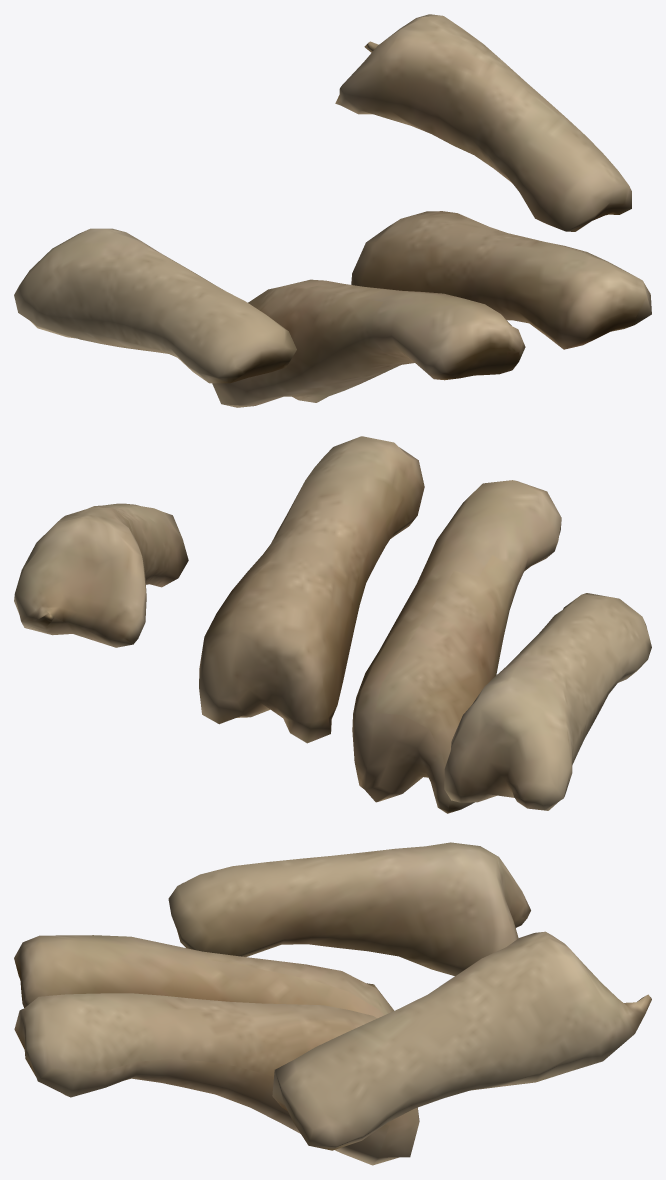
The model's file is Proximal_Phalanges.glb.
3 views of the same model, one above another, from view 1: azimuth 30°, elevation 25°; view 2: azimuth 150°, elevation 25°; view 3: azimuth 270°, elevation 25° (orthographic). The views are drawn at different scales.
Visible parts, largest first — view 1: polySurface32, polySurface35, polySurface34, polySurface33; view 2: polySurface33, polySurface34, polySurface35, polySurface32; view 3: polySurface32, polySurface35, polySurface33, polySurface34.
Part boxes in pixels (x1,y1,x2,y2): polySurface32: (335,14,631,231); polySurface35: (14,228,296,383); polySurface34: (212,279,525,407); polySurface33: (351,211,651,349); polySurface33: (199,436,424,743); polySurface34: (352,480,561,813); polySurface35: (444,593,651,810); polySurface32: (14,503,188,647); polySurface32: (272,931,651,1150); polySurface35: (168,842,530,975); polySurface33: (14,993,419,1165); polySurface34: (14,935,393,1018).
Size of the model in its own units: 39.9 by 19.83 by 37.37.
Materials: 1 (1 with a texture image).
